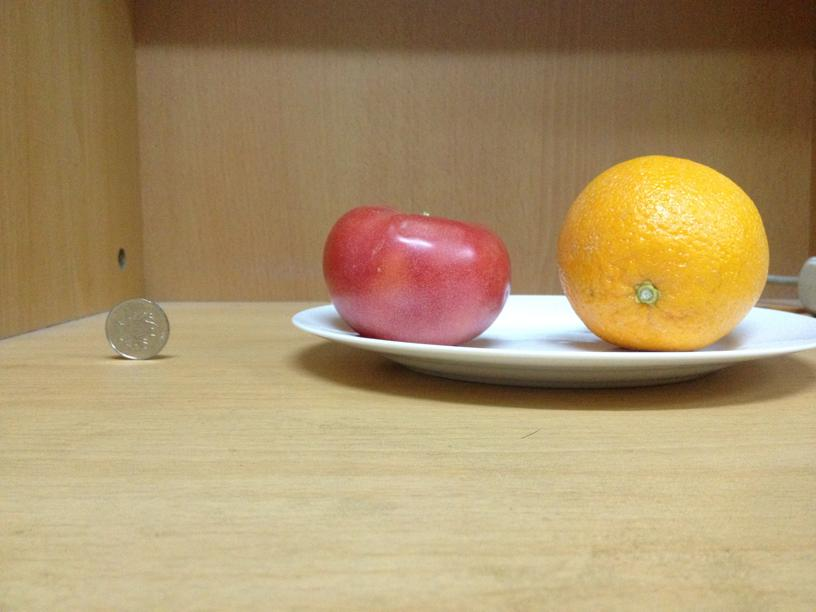coin: (105, 294, 171, 362)
orange: (557, 153, 770, 349)
tomato: (319, 206, 510, 342)
